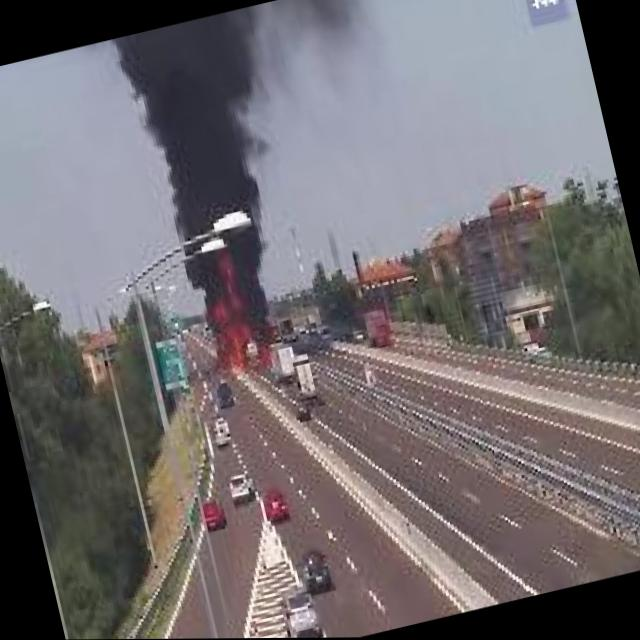fire: (185, 241, 278, 384)
